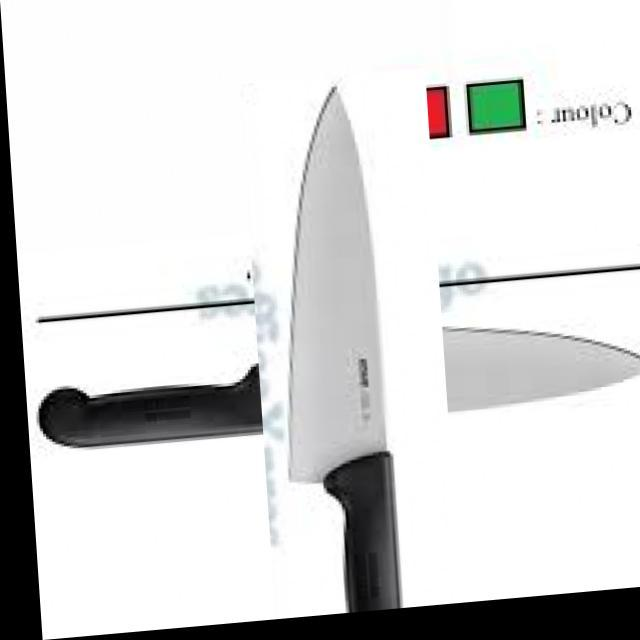knife: (36, 326, 640, 451), (284, 86, 404, 614)
